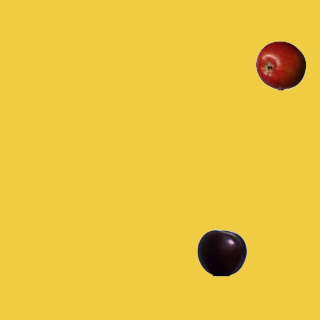Apple Braeburn: (255, 40, 305, 90)
Cherry Wax Black: (196, 227, 246, 277)
